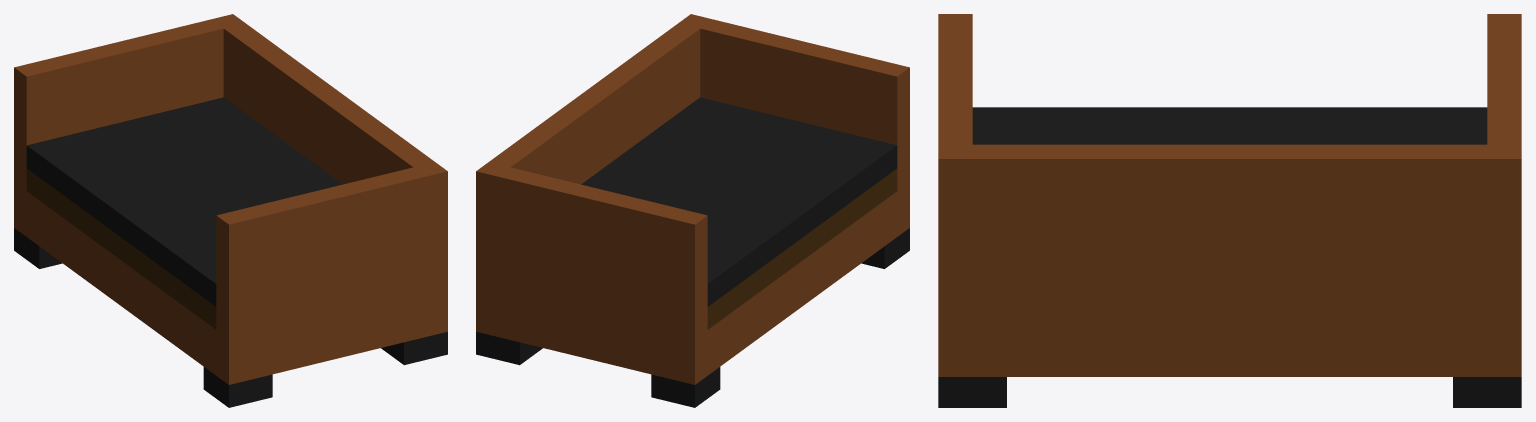
File: BedroomandMainRoom-5.obj
3 renders of one model, left to right at view 1: azimuth 30°, elevation 25°; view 2: azimuth 150°, elevation 25°; view 3: azimuth 270°, elevation 25°, orthographic. The views are drawn at different scales.
Size of the model in its own units: 1 by 0.8 by 1.7.
1 material, 1 textured.
